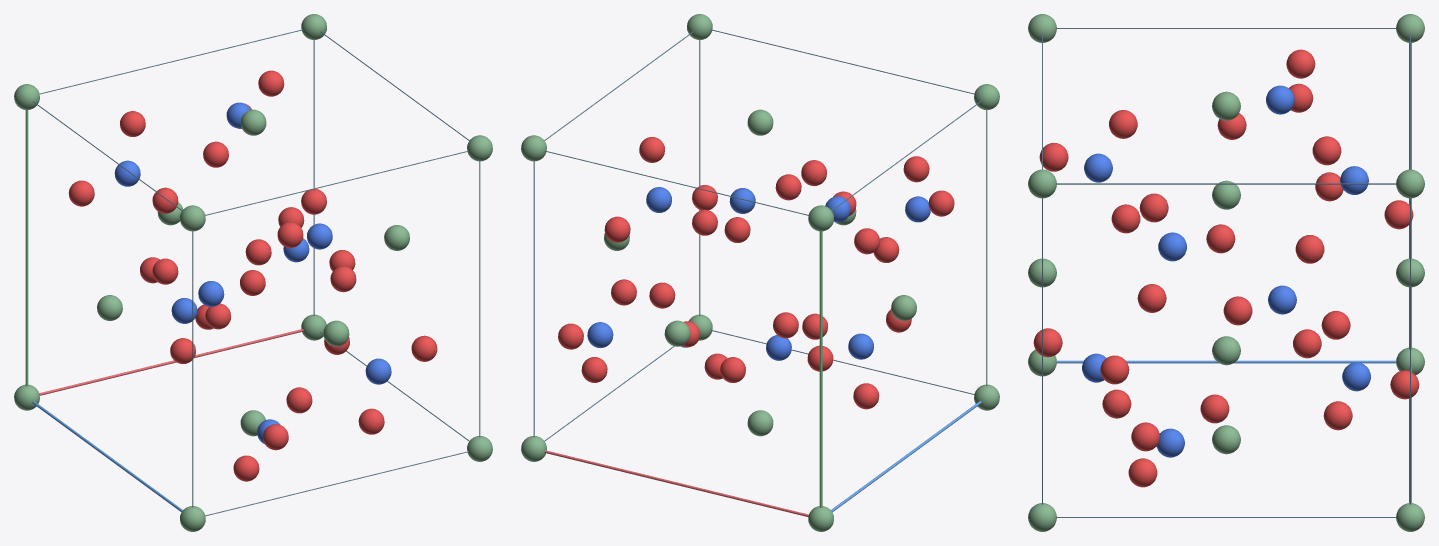
The model's file is chat-barium-nitrate.glb.
3 views of the same model, side by side, from view 1: azimuth 30°, elevation 25°; view 2: azimuth 150°, elevation 25°; view 3: azimuth 270°, elevation 25° (orthographic). The views are drawn at different scales.
Visible parts, largest first — view 1: Ô mạng và các trục a, b, c, O* · O · 1 (×6), Ba · Ba · 1 (×4), O · O · 1 (×3), N · N · 1; view 2: Ô mạng và các trục a, b, c, Ba · Ba · 1 (×5), O* · O · 1 (×4), O · O · 1 (×4); view 3: Ba · Ba · 1 (×14), O · O · 1 (×12), O* · O · 1 (×12), Ô mạng và các trục a, b, c, N · N · 1 (×4), N* · N · 1 (×4).
Boxes of the visible parts, x1,y1,x2,y2 form: Ô mạng và các trục a, b, c: (25,29,480,516); O* · O · 1 (×6): (68,180,356,481); Ba · Ba · 1 (×4): (180,109,492,346); O · O · 1 (×3): (152,70,384,434); N · N · 1: (365,358,391,384); Ô mạng và các trục a, b, c: (533,29,987,516); Ba · Ba · 1 (×5): (521,109,833,436); O* · O · 1 (×4): (558,174,879,409); O · O · 1 (×4): (604,156,954,308); Ba · Ba · 1 (×14): (1028,14,1424,531); O · O · 1 (×12): (1039,110,1413,487); O* · O · 1 (×12): (1033,49,1419,430); Ô mạng và các trục a, b, c: (1042,28,1411,517); N · N · 1 (×4): (1084,153,1368,457); N* · N · 1 (×4): (1082,85,1370,391).
Bounding box in the file's own units: 8.77 × 8.77 × 8.77.
